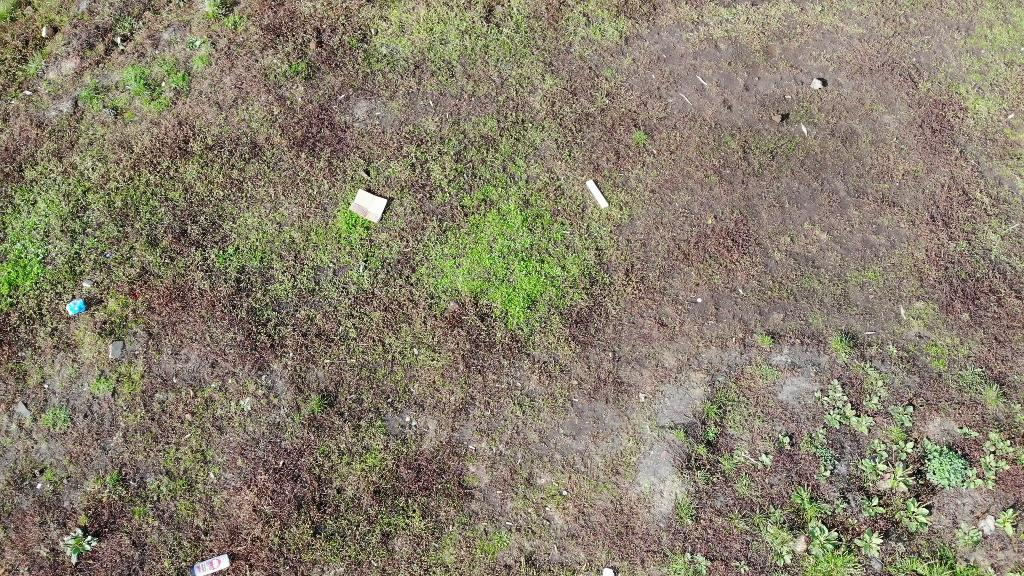garbage: (348, 186, 391, 227), (66, 295, 88, 319)
